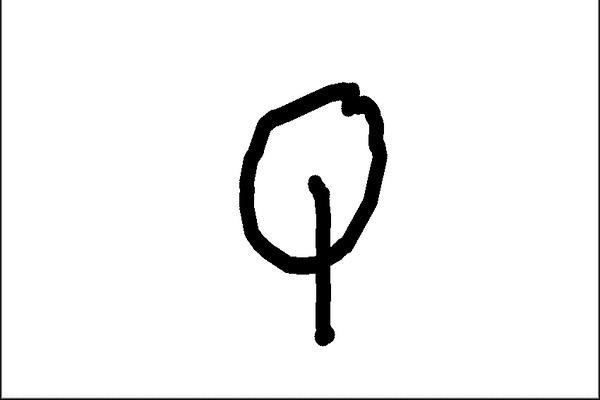Q: (221, 70, 394, 357)
